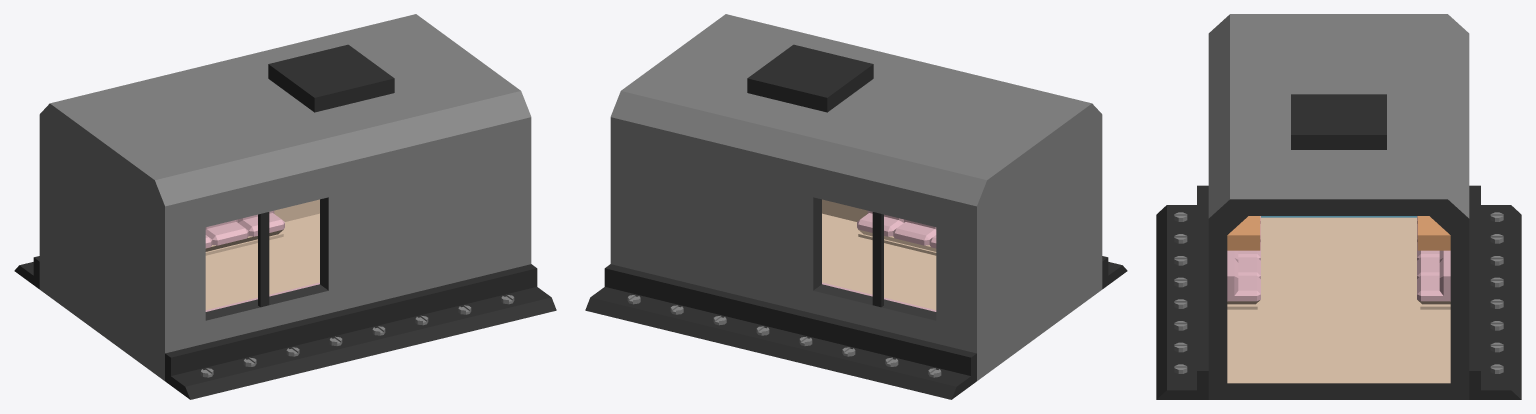
The model's file is RespawnRoom.glb.
3 views of the same model, side by side, from view 1: azimuth 30°, elevation 25°; view 2: azimuth 150°, elevation 25°; view 3: azimuth 270°, elevation 25° (orthographic). The views are drawn at different scales.
Visible parts, largest first — view 1: Cube, Cube.009, Cube.008, Cube.003, Cube.001, Cube.010, Cube.004; view 2: Cube, Cube.009, Cube.008, Cube.003, Cube.001, Cube.010, Cube.004; view 3: Cube, Cube.009, Cube.008, Cube.003, Cube.010, Cube.004.
Part boxes in pixels (x1,y1,x2,y2): Cube: [39, 14, 531, 380]; Cube.009: [14, 256, 556, 399]; Cube.008: [268, 44, 394, 112]; Cube.003: [205, 210, 319, 311]; Cube.001: [258, 212, 269, 307]; Cube.010: [200, 295, 514, 377]; Cube.004: [205, 229, 283, 255]; Cube: [610, 14, 1102, 380]; Cube.009: [585, 256, 1127, 399]; Cube.008: [747, 44, 873, 112]; Cube.003: [822, 210, 936, 311]; Cube.001: [872, 212, 883, 307]; Cube.010: [627, 295, 941, 377]; Cube.004: [858, 229, 936, 255]; Cube: [1208, 14, 1469, 399]; Cube.009: [1156, 185, 1521, 399]; Cube.008: [1291, 94, 1386, 149]; Cube.003: [1227, 216, 1450, 301]; Cube.010: [1174, 212, 1503, 373]; Cube.004: [1227, 300, 1450, 309].
Bounding box in the file's own units: 7.13 × 3.87 × 5.94.
